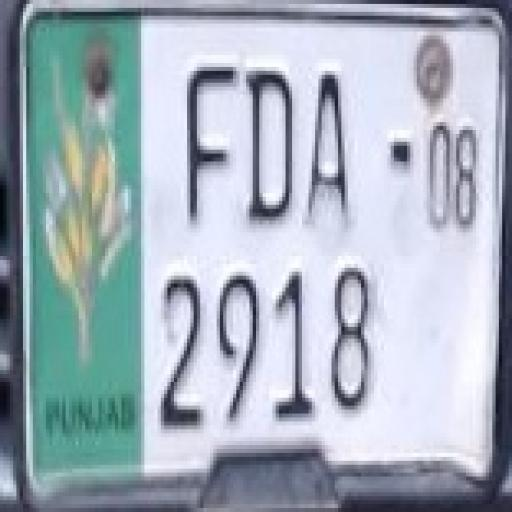1: (271, 260, 318, 427)
2: (152, 274, 210, 428)
8: (328, 260, 383, 430)
9: (212, 269, 262, 436)
A: (307, 62, 369, 230)
D: (240, 58, 307, 240)
F: (182, 52, 238, 231)
